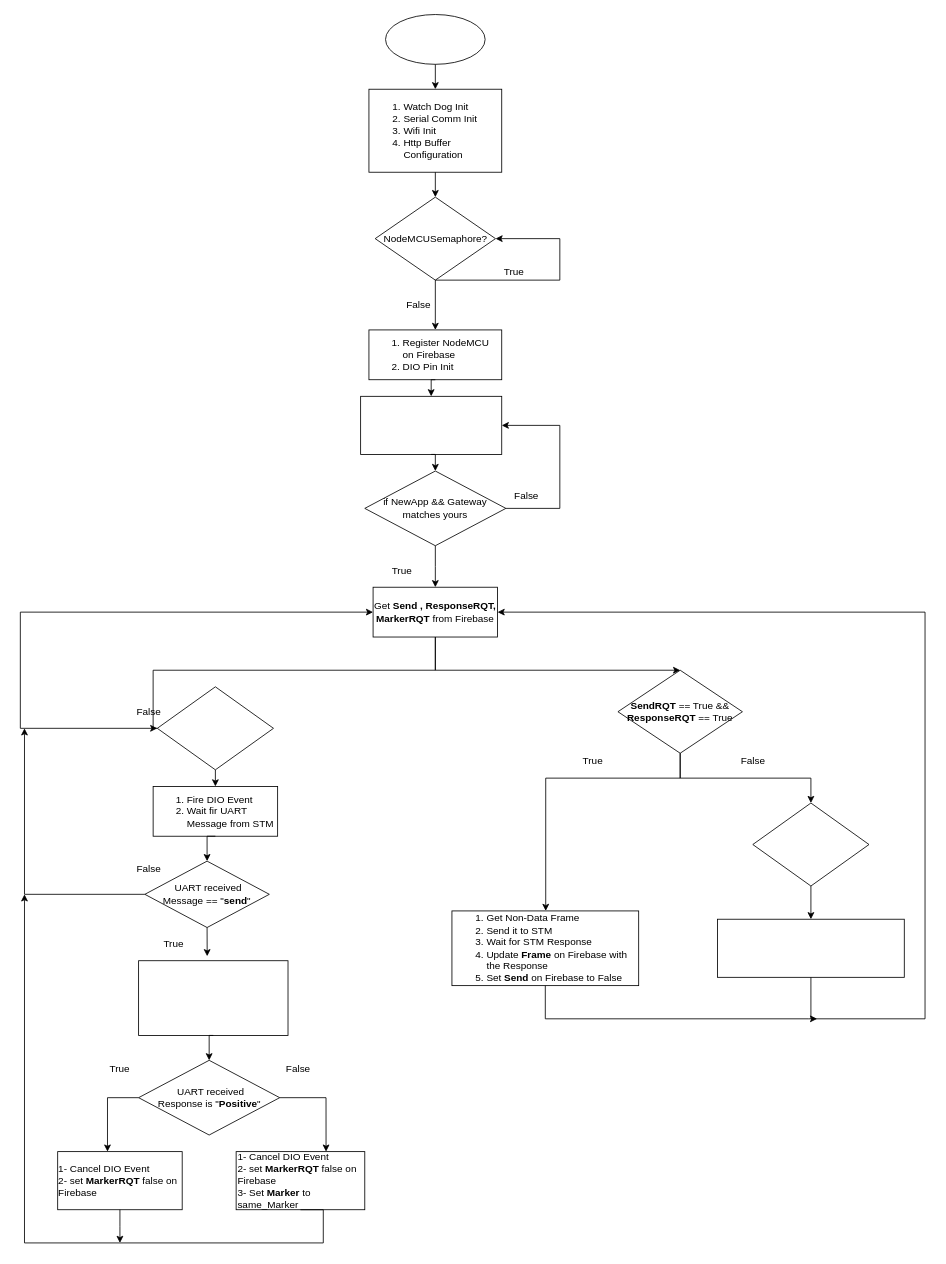
Image size: 946x1264. Some labels were removed from this diagram. Here are the shapes that lost their labels. From the top down, the centre of each, then its label:
[435,39]: Start
[431,424]: WatchDog Timer Feed Get FlashNewApp and SelectedGatway from Firebase
[214,728]: MarkerRQT ?
[810,844]: SendRQT == True && ResponseRQT == False
[810,947]: Get Data Frame Send it to STM Set Send on Firebase to False
[213,997]: Get Marker from Firebase Send Marker on UART to STM wait for STM Response
